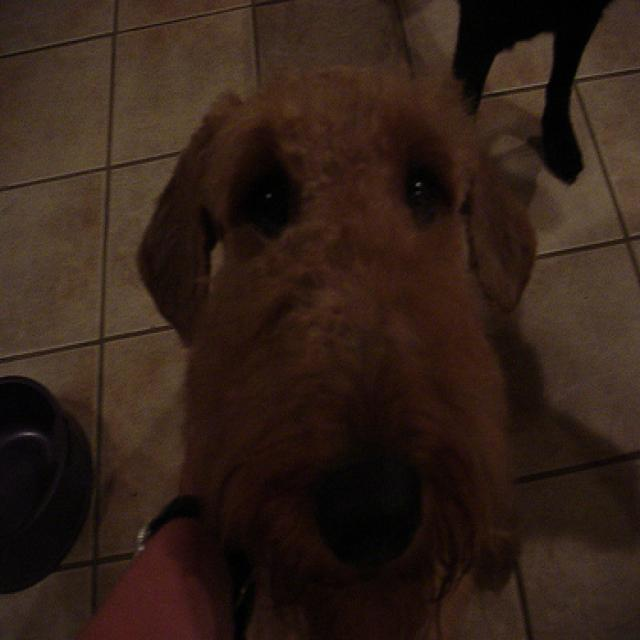Dog: (158, 108, 544, 640)
